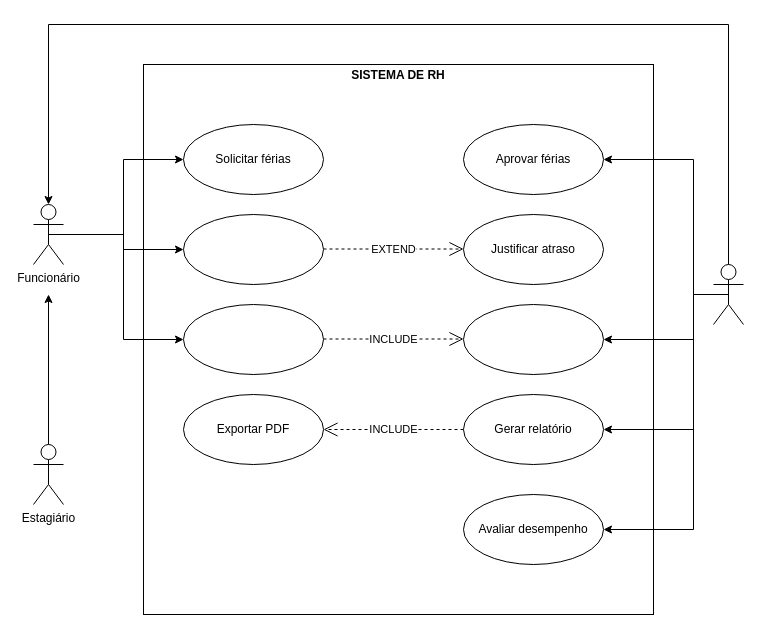
Image size: 767x632. Some labels were removed from this diagram. Each missing label, with the box of its shape:
Gerente: (712, 264, 744, 324)
Registrar ponto: (182, 214, 324, 284)
Solicitar treinamento: (182, 304, 324, 374)
Verificar orçamento: (462, 304, 604, 374)
